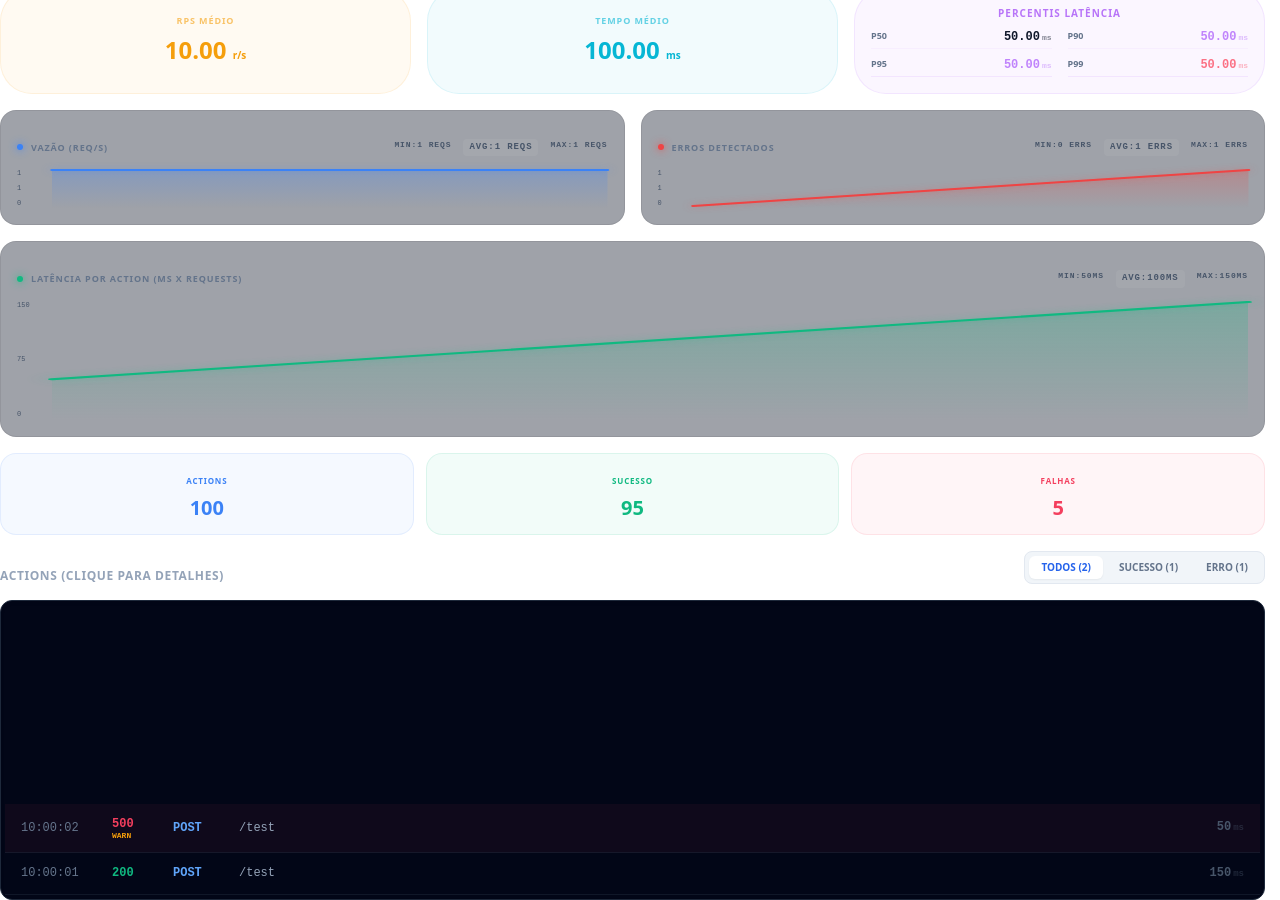
Test case: ReportView › should open inspection modal when clicking a log
(page scrolled)
Click the text "10:00:01": (50, 873) top-left (21, 866), bottom-right (79, 880)
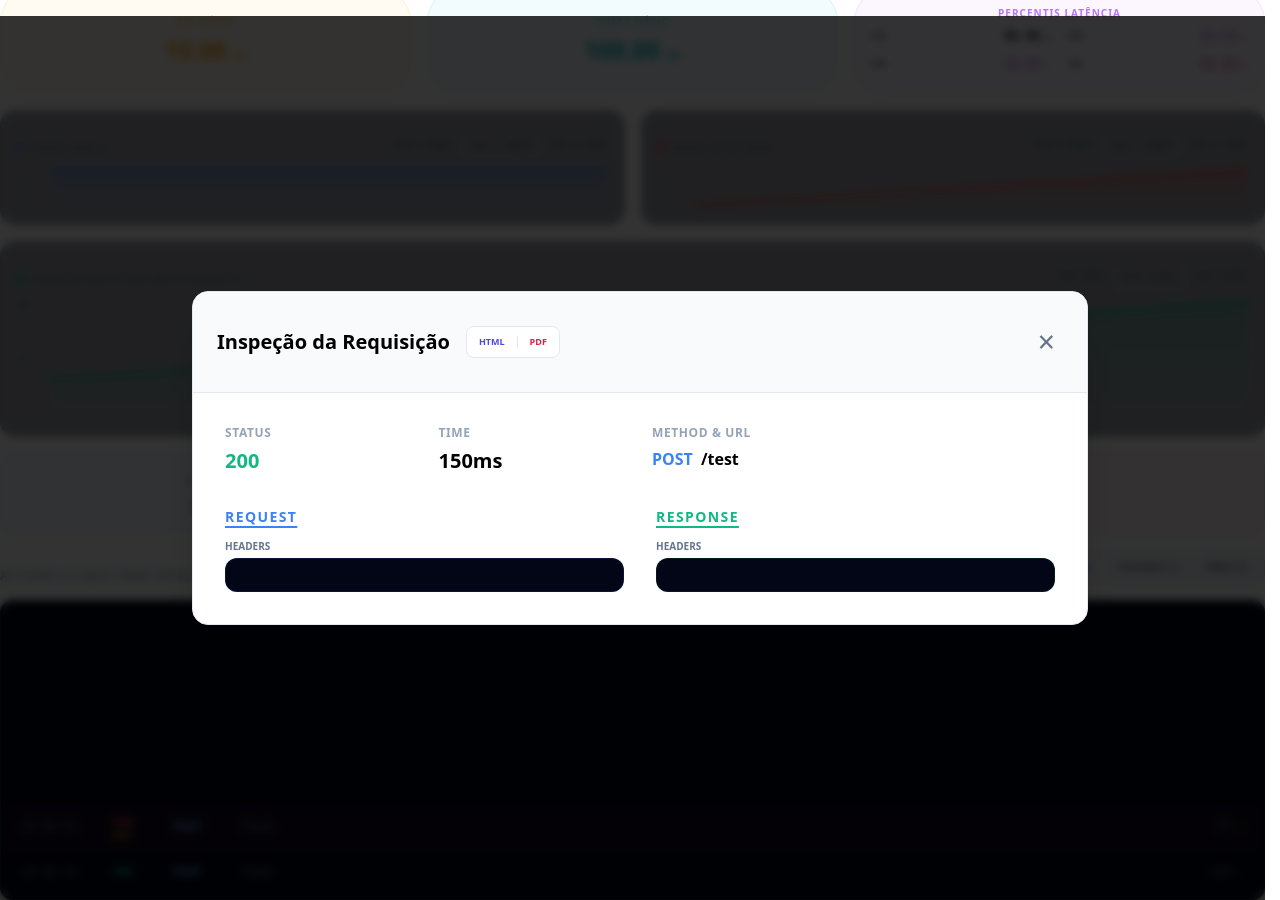
Expected: the heading "Inspeção da Requisição" is shown, top-left (217, 328), bottom-right (450, 356)
Expected: the text "150ms" is shown, top-left (438, 447), bottom-right (502, 474)
Fecha o modal
Click the button "×": (1046, 342) top-left (1030, 316), bottom-right (1063, 368)
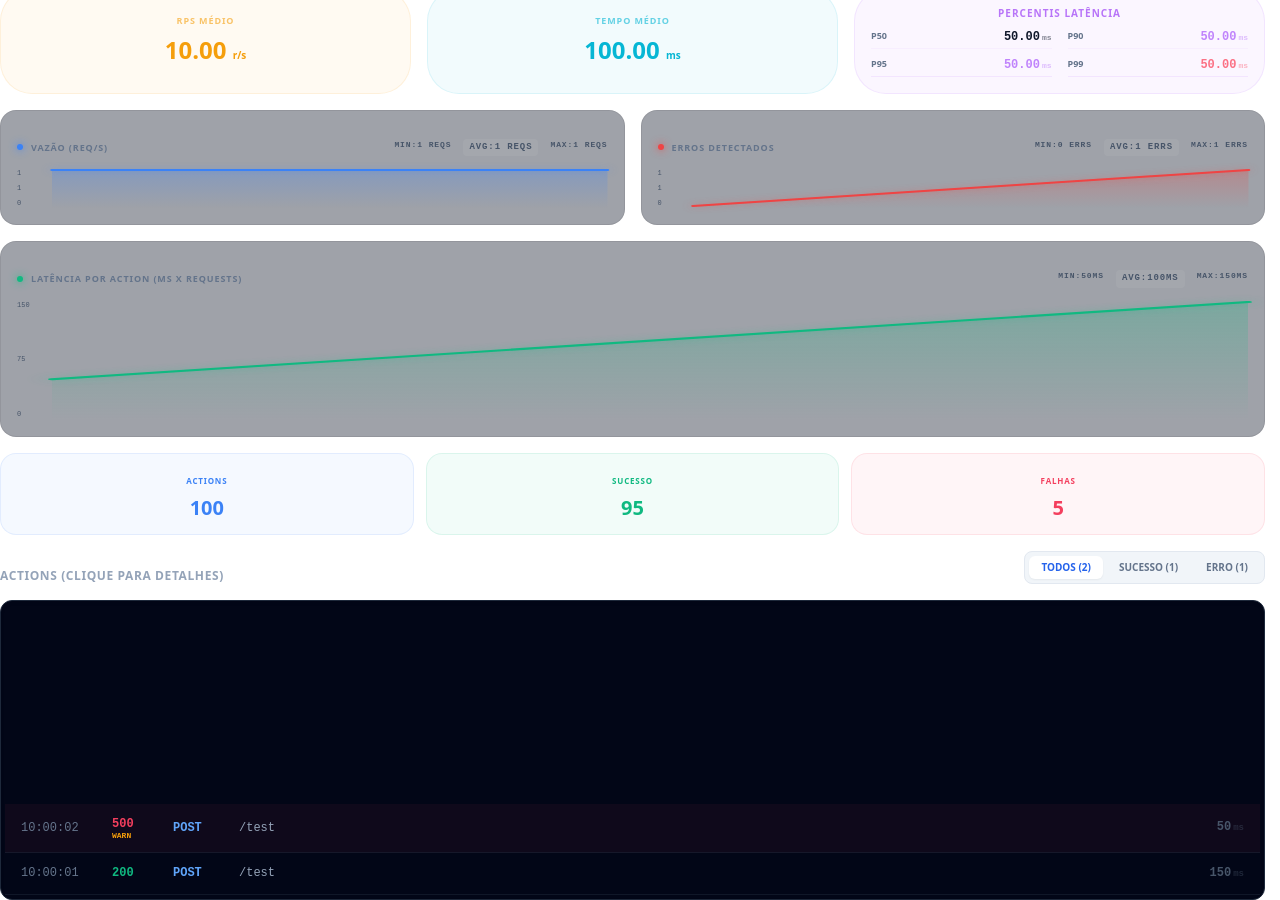
Expected: the heading "Inspeção da Requisição" is gone
